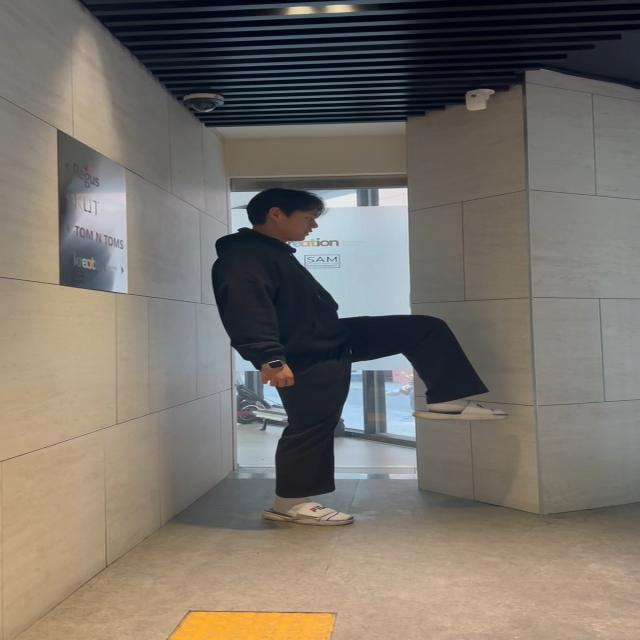knee: (329, 294, 540, 442)
